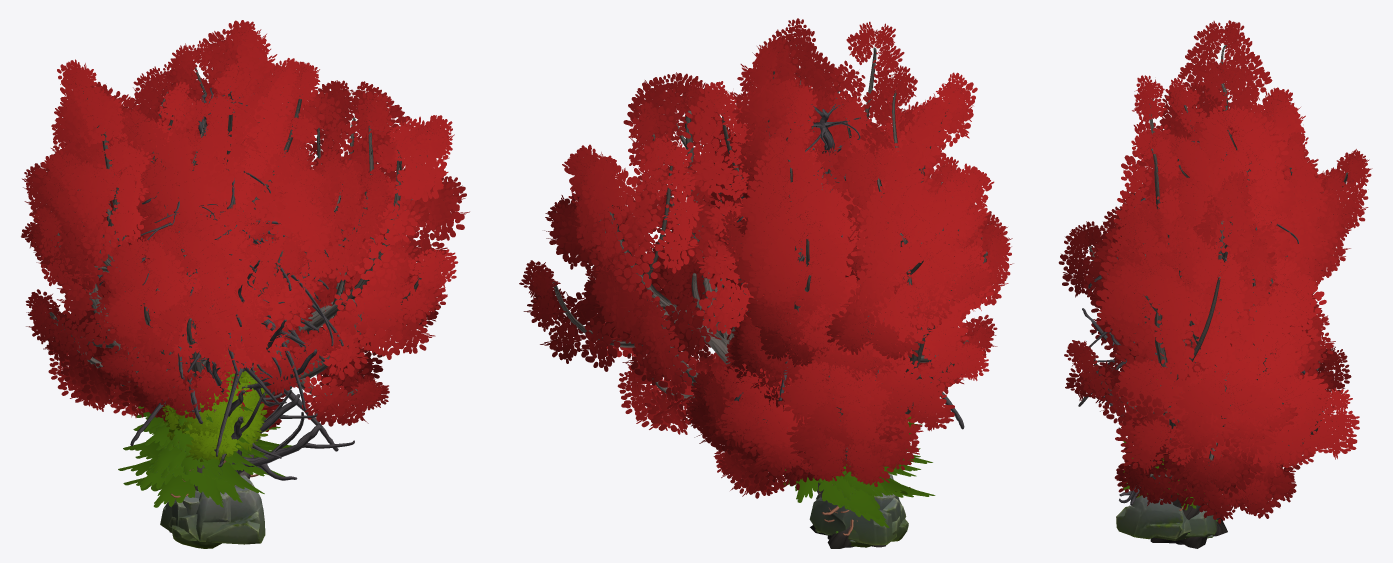
Rendered from nature.glb.
3 renders of one model, left to right at view 1: azimuth 30°, elevation 25°; view 2: azimuth 150°, elevation 25°; view 3: azimuth 270°, elevation 25°, orthographic. The views are drawn at different scales.
Visible parts, largest first — view 1: TwistedTree_2, TwistedTree_1, TwistedTree_3, TwistedTree_4, TwistedTree_5, Rock_Medium_3, DeadTree_2, Pine_2, Pine_5, DeadTree_4, Pine_4, DeadTree_5 (+6 smaller); view 2: TwistedTree_1, TwistedTree_2, TwistedTree_4, TwistedTree_3, TwistedTree_5, Rock_Medium_2, Pine_5, DeadTree_5, Pine_2; view 3: TwistedTree_1, TwistedTree_4, TwistedTree_2, TwistedTree_3, TwistedTree_5, Rock_Medium_3, Rock_Medium_2.
Part boxes in pixels (bbox=[...]): TwistedTree_2: bbox=[21, 59, 320, 490]; TwistedTree_1: bbox=[145, 60, 469, 532]; TwistedTree_3: bbox=[48, 92, 394, 418]; TwistedTree_4: bbox=[66, 20, 367, 433]; TwistedTree_5: bbox=[91, 98, 345, 319]; Rock_Medium_3: bbox=[172, 475, 265, 548]; DeadTree_2: bbox=[182, 245, 354, 480]; Pine_2: bbox=[123, 424, 272, 507]; Pine_5: bbox=[118, 413, 292, 502]; DeadTree_4: bbox=[182, 207, 343, 456]; Pine_4: bbox=[123, 386, 267, 497]; DeadTree_5: bbox=[97, 87, 338, 451]; TwistedTree_1: bbox=[519, 72, 886, 548]; TwistedTree_2: bbox=[721, 18, 1013, 442]; TwistedTree_4: bbox=[710, 37, 938, 490]; TwistedTree_3: bbox=[683, 99, 1012, 498]; TwistedTree_5: bbox=[709, 119, 924, 411]; Rock_Medium_2: bbox=[809, 493, 897, 545]; Pine_5: bbox=[785, 433, 924, 520]; DeadTree_5: bbox=[709, 91, 964, 429]; Pine_2: bbox=[780, 448, 935, 527]; TwistedTree_1: bbox=[1064, 171, 1359, 548]; TwistedTree_4: bbox=[1080, 84, 1372, 380]; TwistedTree_2: bbox=[1100, 20, 1318, 376]; TwistedTree_3: bbox=[1058, 163, 1351, 513]; TwistedTree_5: bbox=[1111, 166, 1350, 379]; Rock_Medium_3: bbox=[1116, 495, 1186, 539]; Rock_Medium_2: bbox=[1186, 510, 1216, 537].
Bounding box in the file's own units: 17.96 × 19.08 × 12.13.
12 materials, 12 textured.
